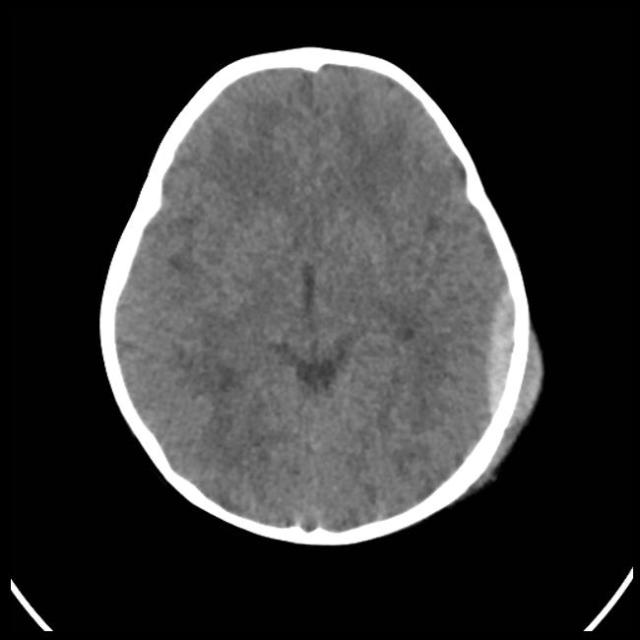lesion: (98, 47, 544, 544)
